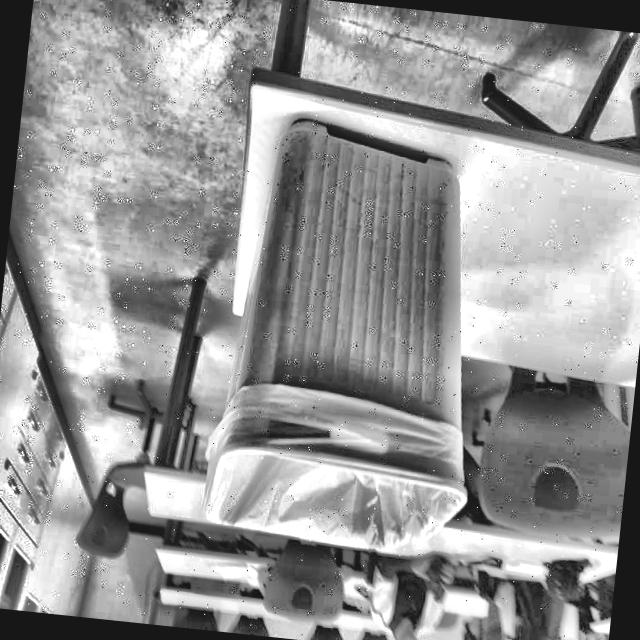Dustbin: (182, 85, 542, 607)
